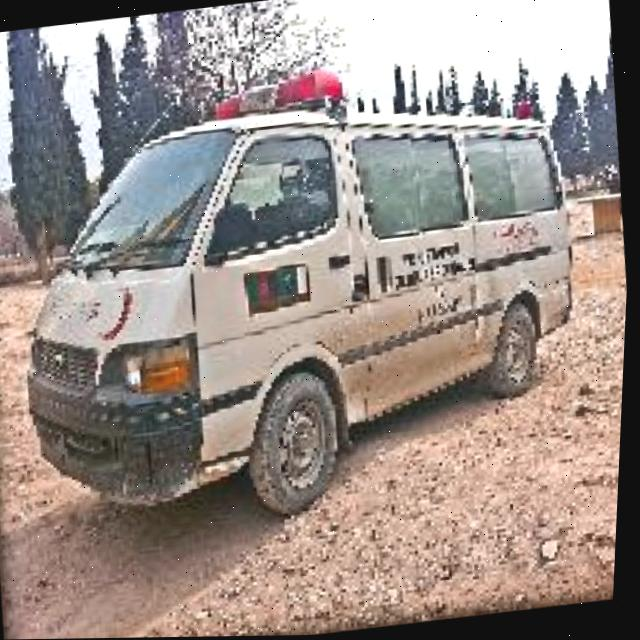emergency: (0, 40, 609, 548)
